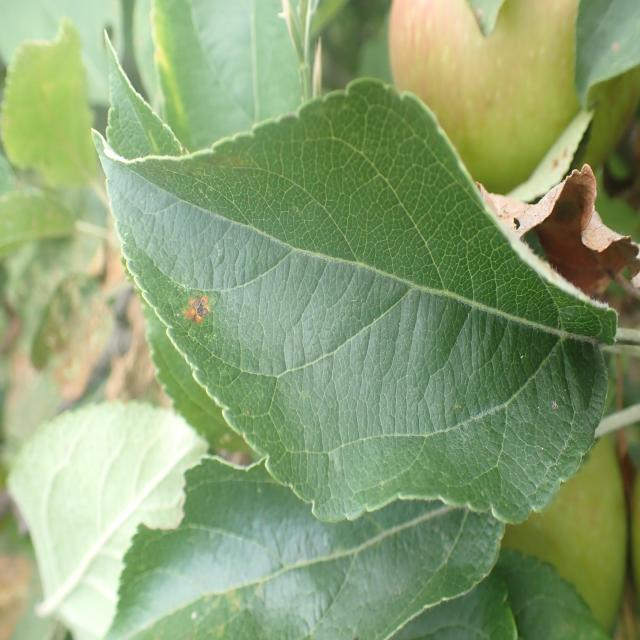rust: (92, 77, 618, 528)
